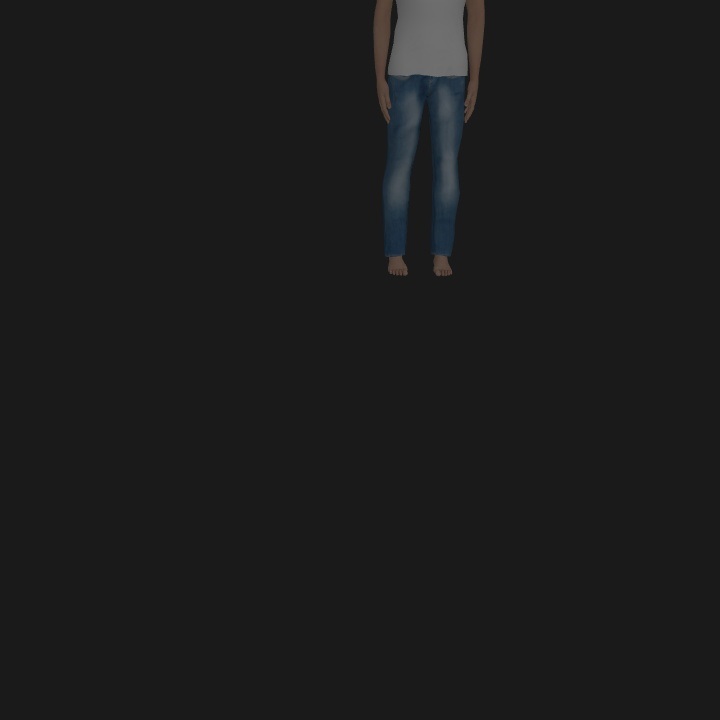victim: (372, 1, 483, 278)
